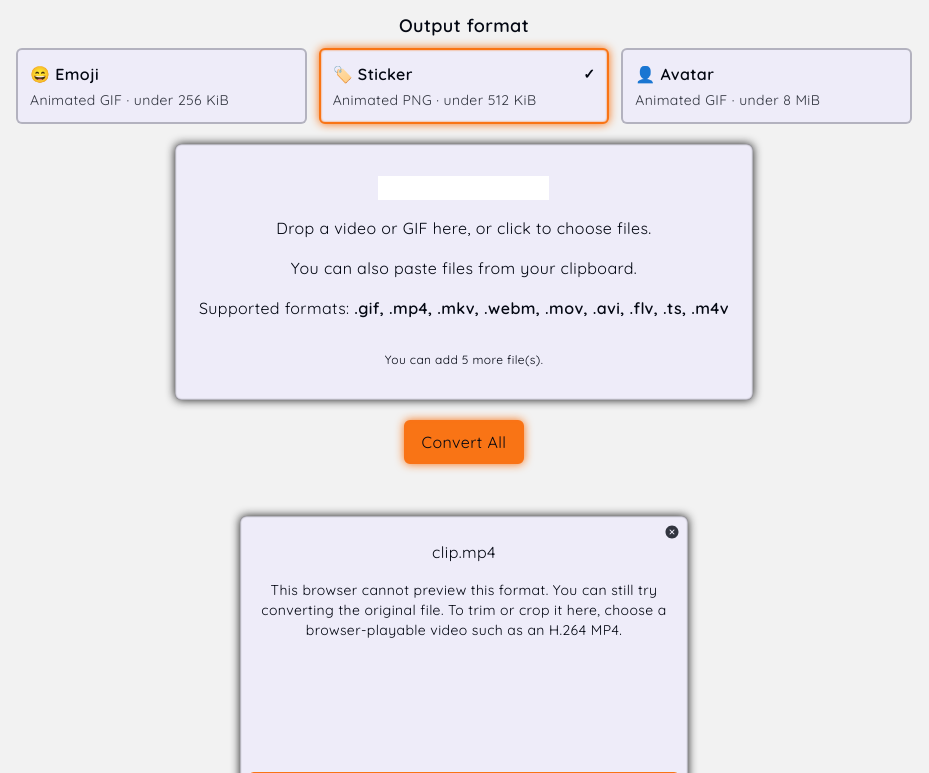
Discord preset selection › allows an empty selection and disables conversion
Check: the button "Convert All" is enabled, box x1=404 y1=420 x2=524 y2=464
Click the button "🏷️ Sticker ✓ Animated PNG · under 512 KiB": (373, 74) x1=319 y1=48 x2=609 y2=124
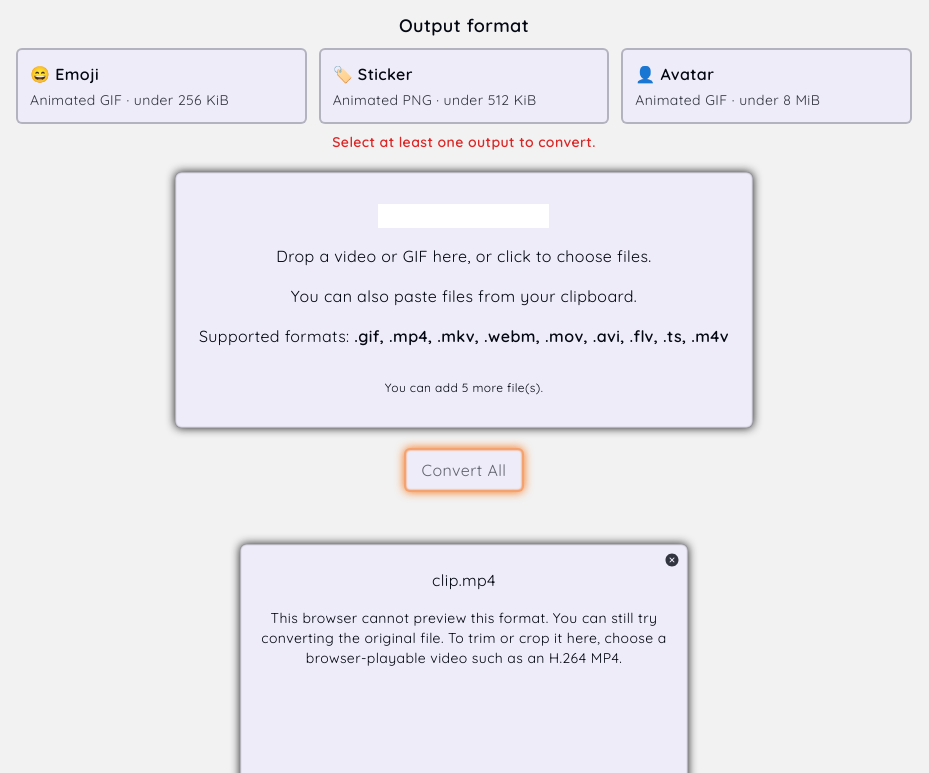
Check: the button "Convert All" is disabled, box x1=404 y1=448 x2=524 y2=492
Check: the message reads "Select at least one output to convert.", box x1=332 y1=133 x2=596 y2=151
